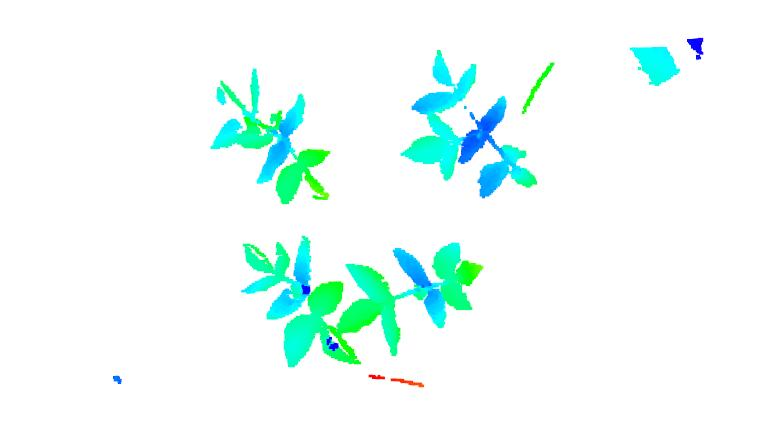mungbean: (396, 46, 541, 194), (238, 226, 365, 367), (336, 238, 485, 358), (206, 64, 330, 204)
